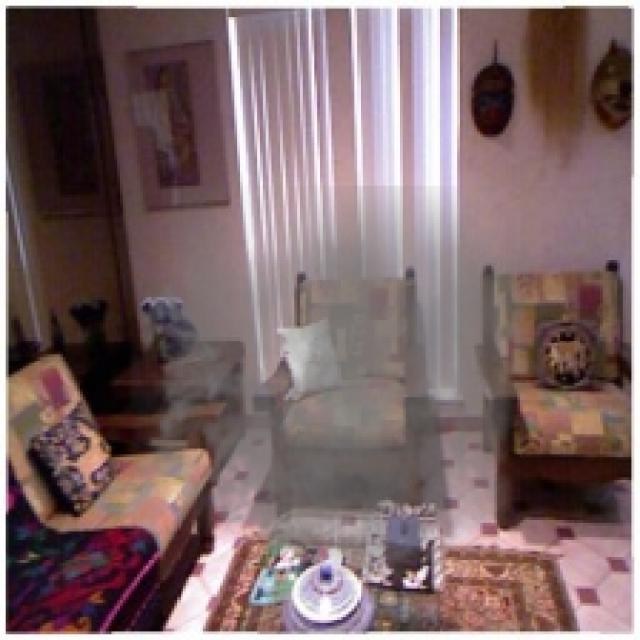smoke: (129, 185, 537, 606)
